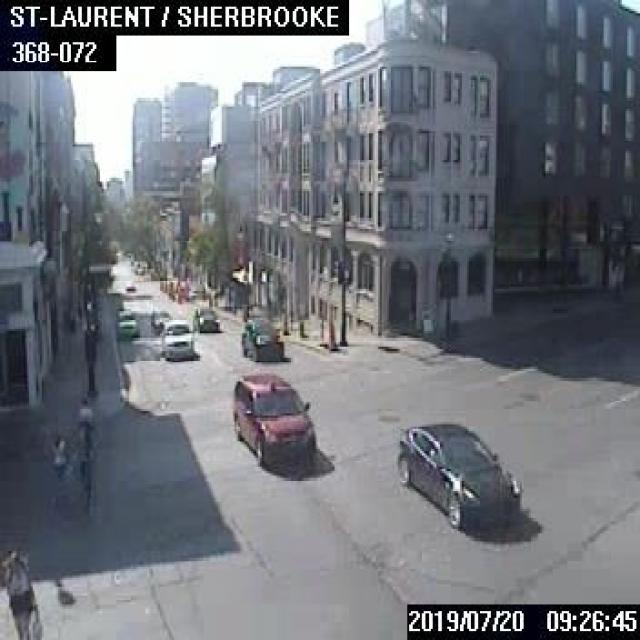construction: (326, 314, 334, 348), (280, 312, 288, 333)
pedestrian: (0, 549, 42, 638), (77, 427, 93, 487), (51, 431, 65, 491), (75, 397, 90, 447)
vehicle: (393, 420, 520, 527), (229, 369, 315, 462), (240, 316, 286, 358), (159, 319, 193, 358), (111, 306, 136, 336), (192, 306, 218, 332), (149, 308, 170, 330)
